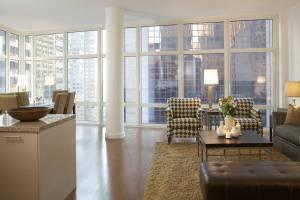window: (0, 19, 275, 129)
